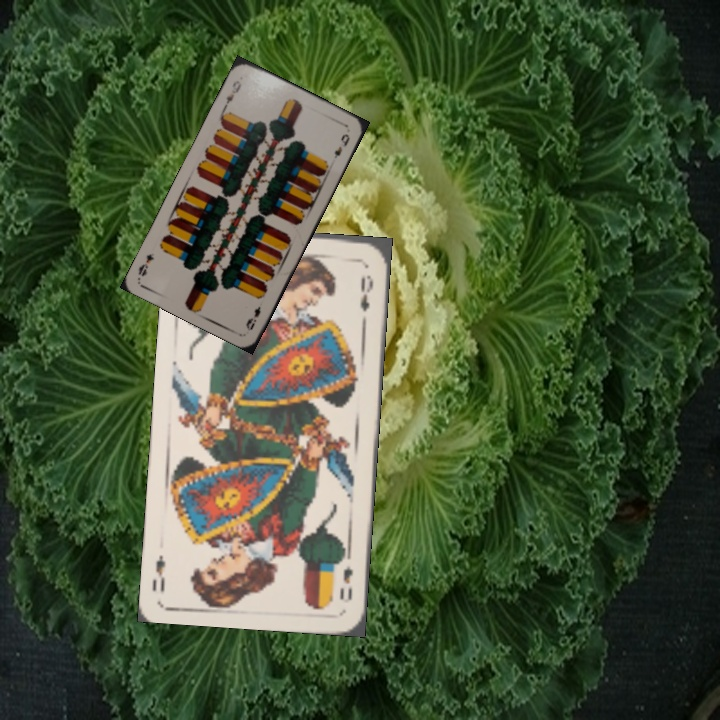E9: (220, 76, 244, 111), (241, 302, 264, 334)
EO: (334, 550, 356, 603)
